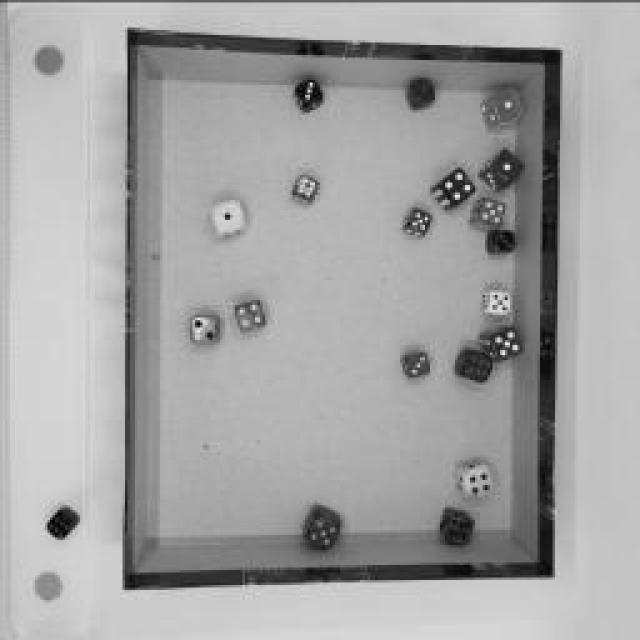dice_1: (478, 82, 528, 132), (476, 145, 526, 190), (208, 199, 248, 239), (402, 78, 438, 112)
dice_2: (188, 314, 220, 346)
dice_3: (289, 75, 326, 115), (399, 349, 431, 381), (484, 225, 516, 255)
dice_4: (428, 164, 478, 211), (450, 455, 495, 500), (230, 296, 268, 334)
dice_5: (474, 321, 524, 364), (300, 501, 342, 551), (468, 192, 508, 232), (478, 286, 512, 316), (401, 206, 434, 236)
dice_6: (453, 344, 495, 386), (437, 502, 475, 548), (290, 172, 320, 202)
